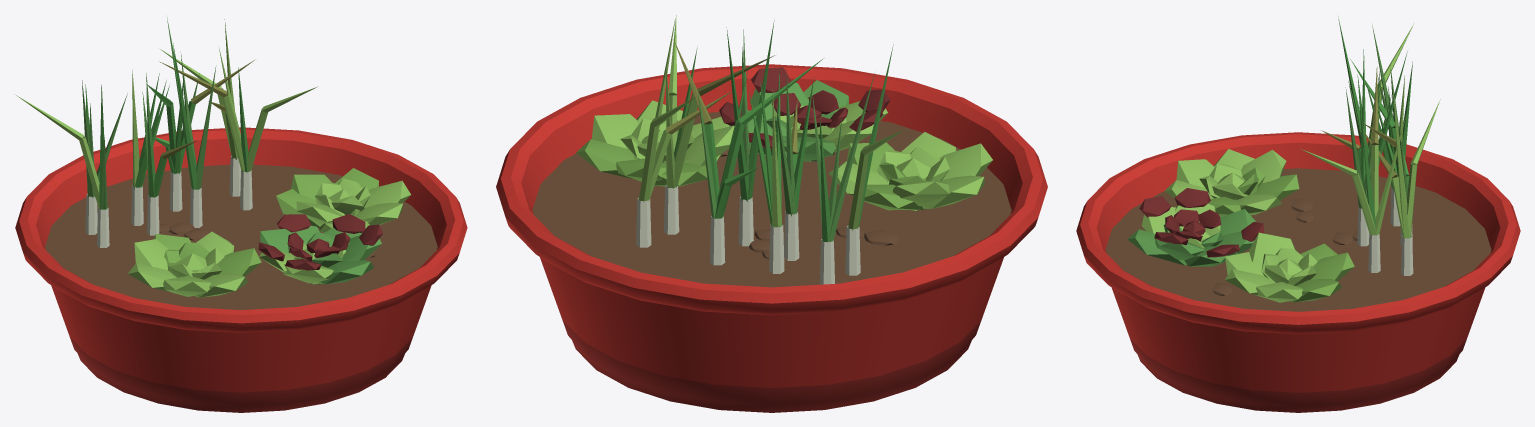
File: SC_Home_RubberBasin_L_Garden.gltf
3 views of the same model, side by side, from view 1: azimuth 30°, elevation 25°; view 2: azimuth 150°, elevation 25°; view 3: azimuth 270°, elevation 25° (orthographic). The views are drawn at different scales.
Visible parts, largest first — view 1: SC_Home_RubberBasin_L_Garden; view 2: SC_Home_RubberBasin_L_Garden; view 3: SC_Home_RubberBasin_L_Garden.
Part boxes in pixels (x1,y1,x2,y2): SC_Home_RubberBasin_L_Garden: [15, 17, 467, 412]; SC_Home_RubberBasin_L_Garden: [496, 15, 1047, 412]; SC_Home_RubberBasin_L_Garden: [1076, 16, 1520, 412].
Size of the model in its own units: 0.81 by 0.5835 by 0.81.
Materials: 1 (1 with a texture image).
